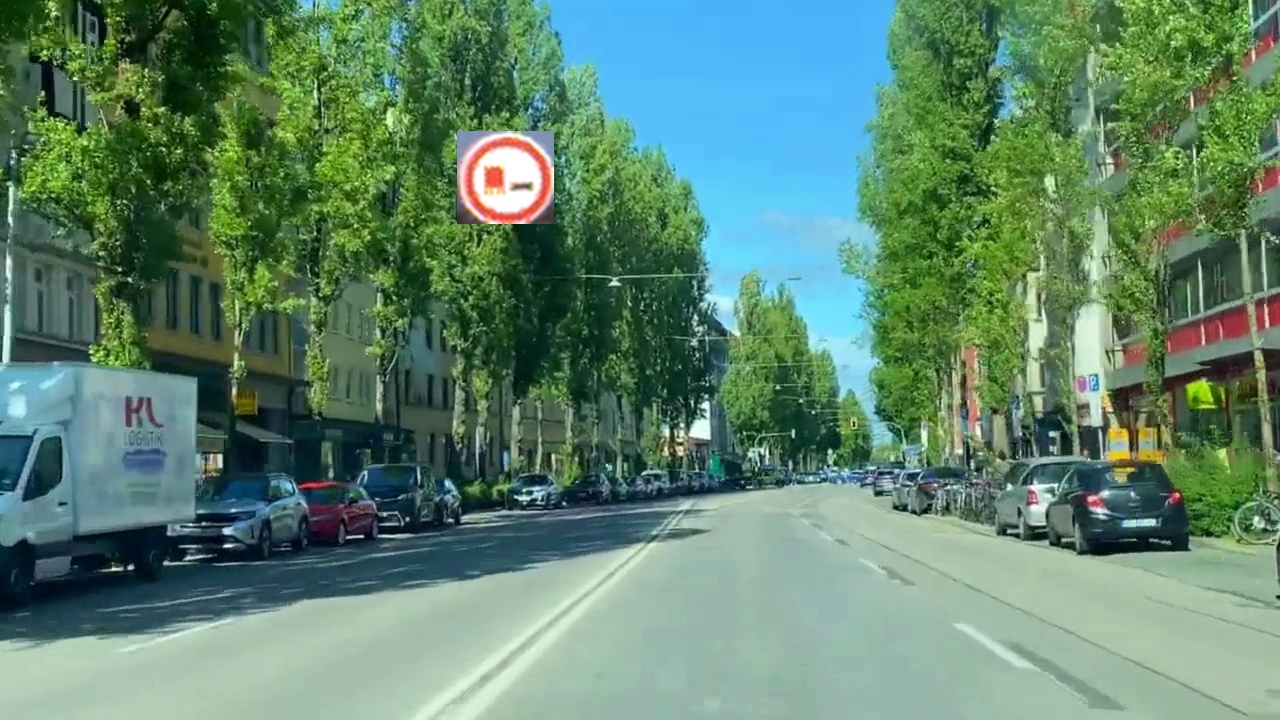No pass >3.5t: (457, 131, 554, 224)
